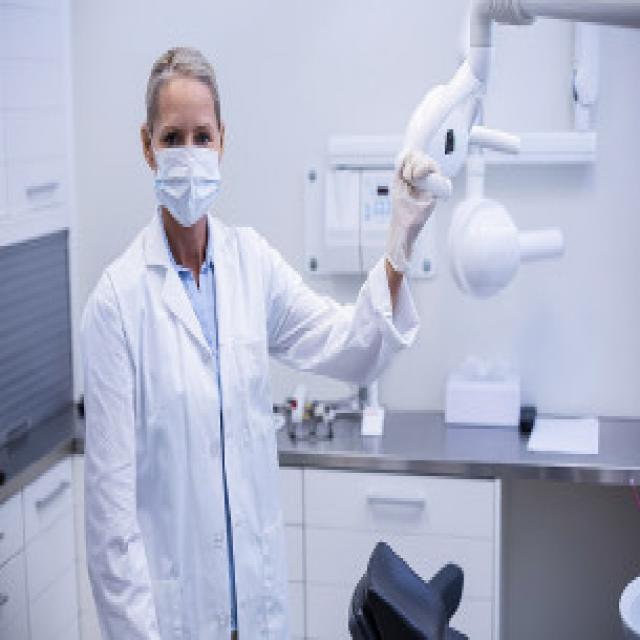mask: (153, 85, 216, 224)
